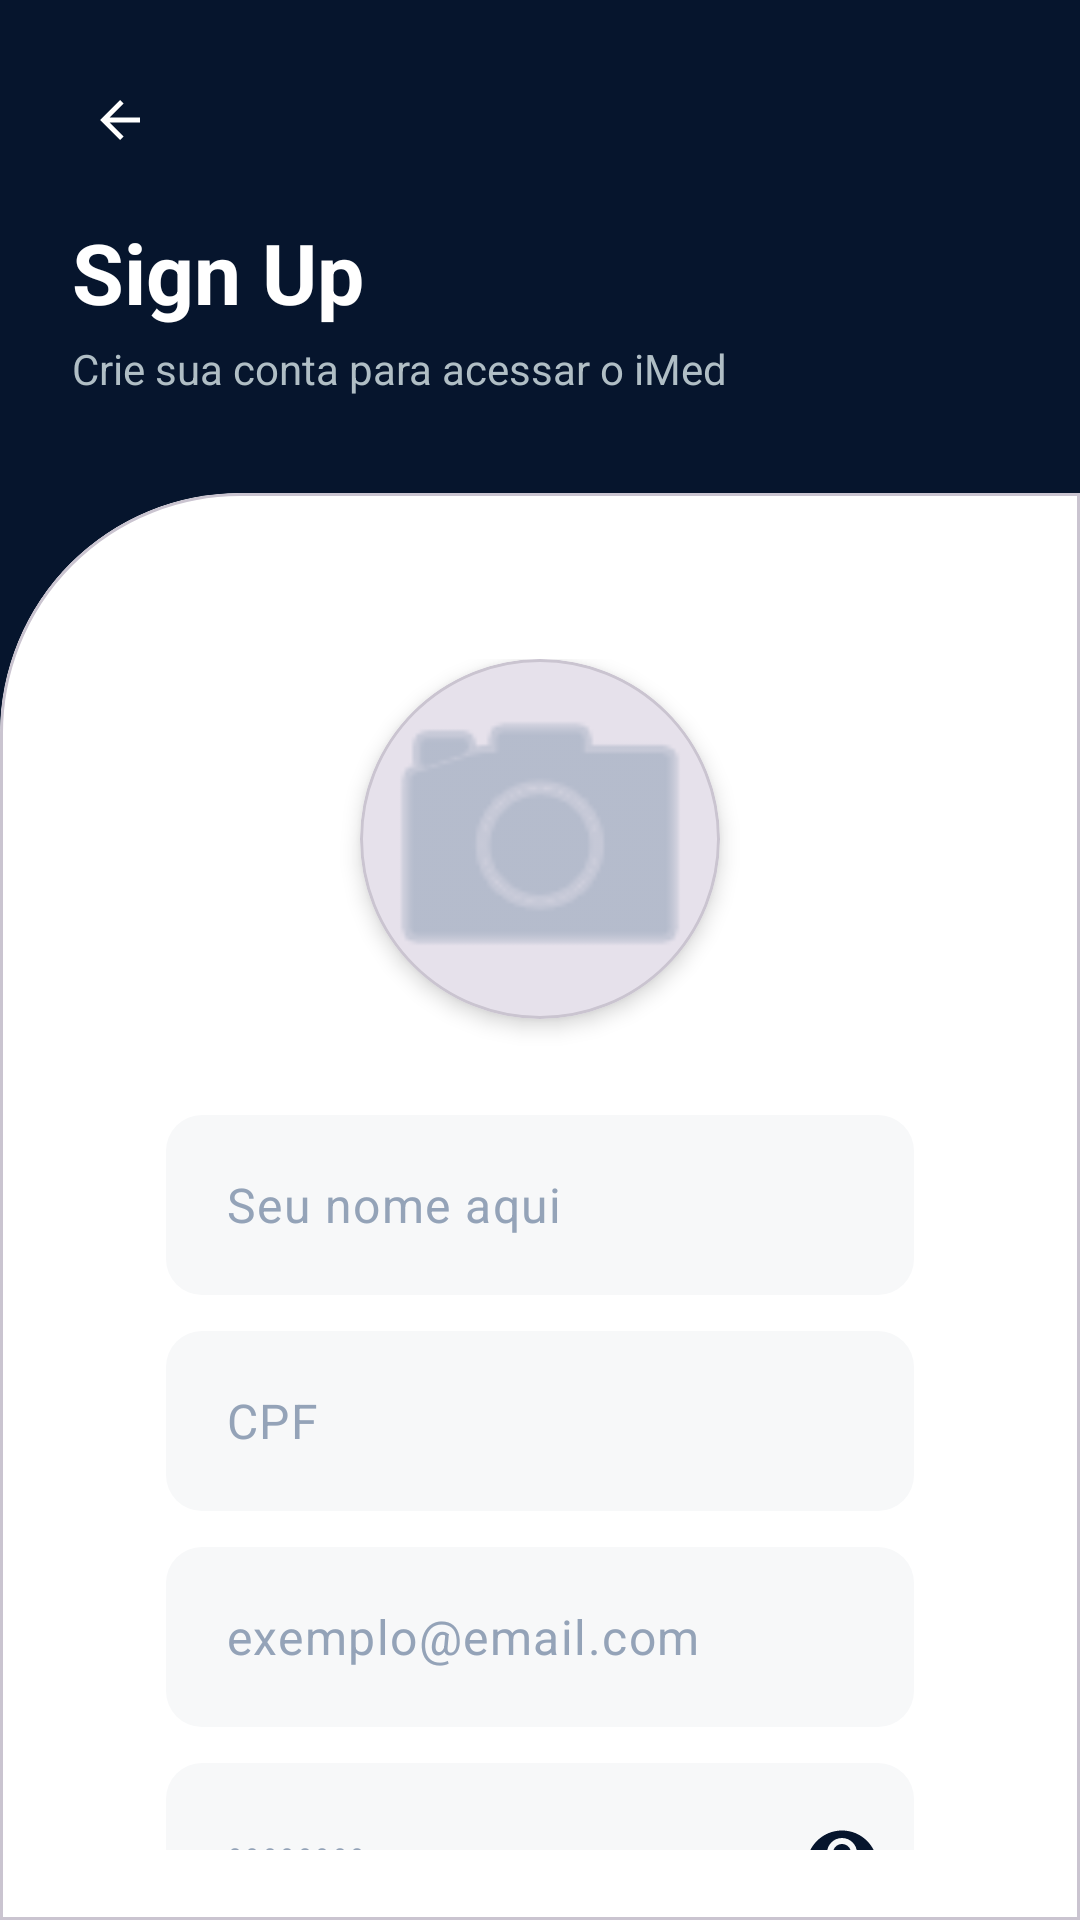

Point at icon controls on the screen. Image size 1080 × 1920, points as [x,y].
camera: [540,839]
